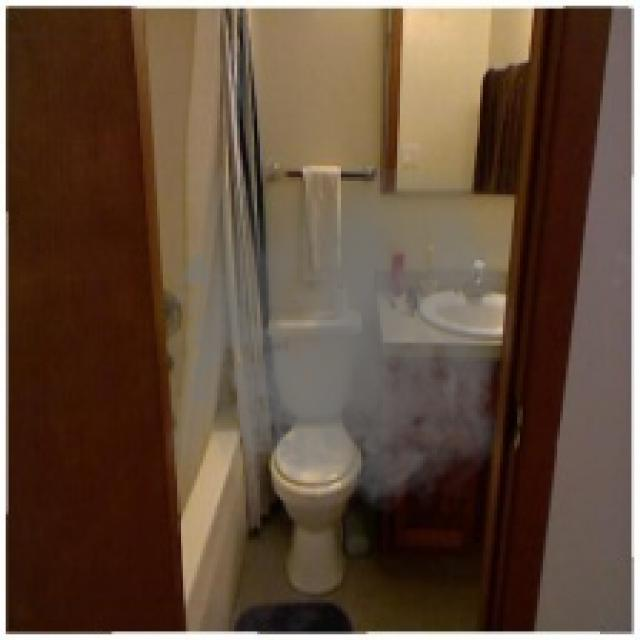smoke: (166, 168, 517, 523)
